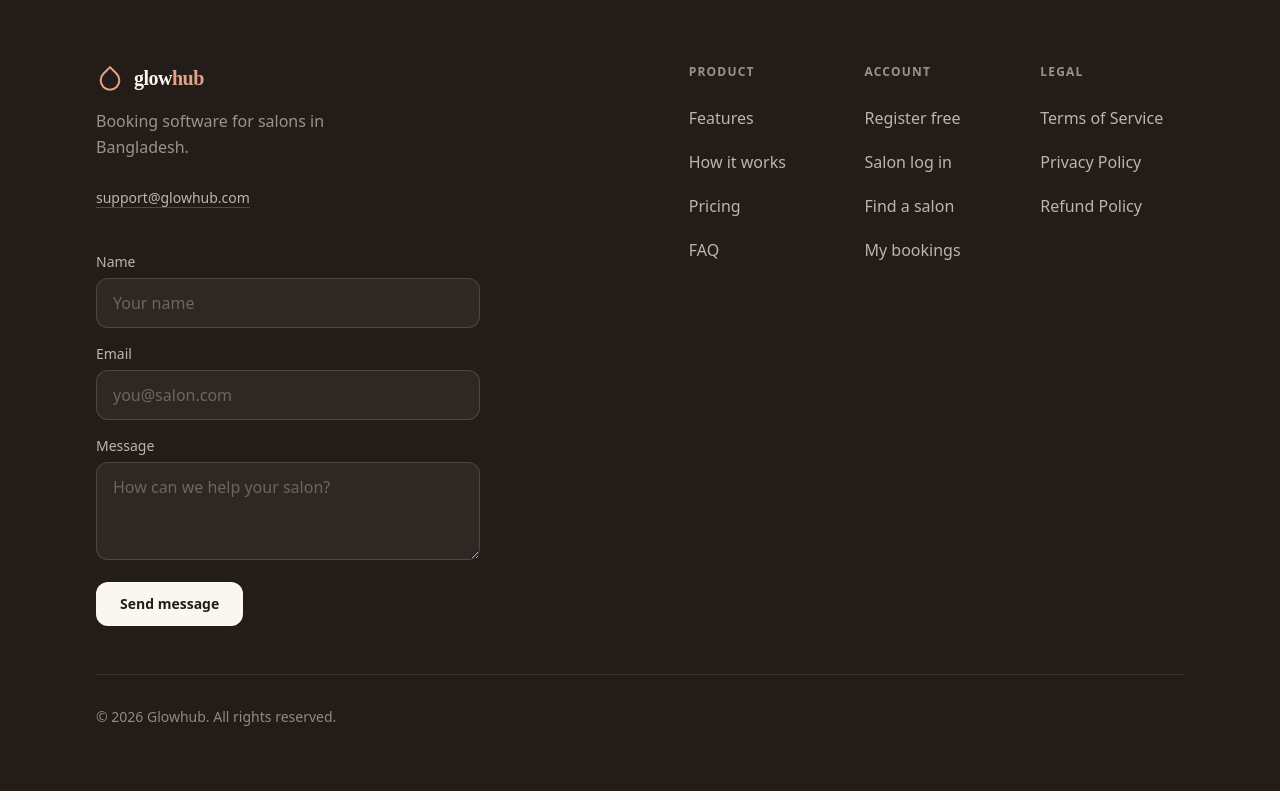
Test: MarketingFooter › shows the field errors the server returns
Type "Rupali" into the field with id "footer-contact-name" at (288, 303), box [96, 278, 480, 328]
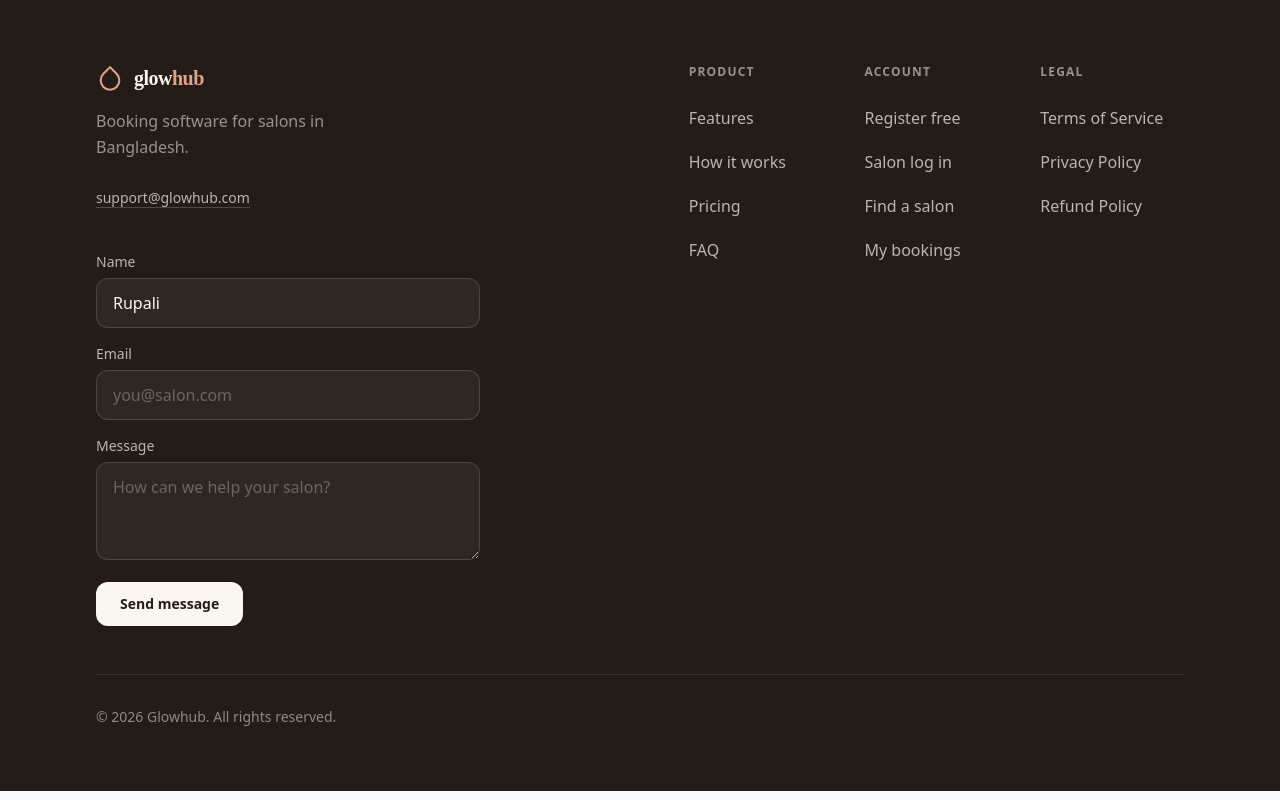
Type "rupali@salon.test" into the field with id "footer-contact-email" at (288, 395), box [96, 370, 480, 420]
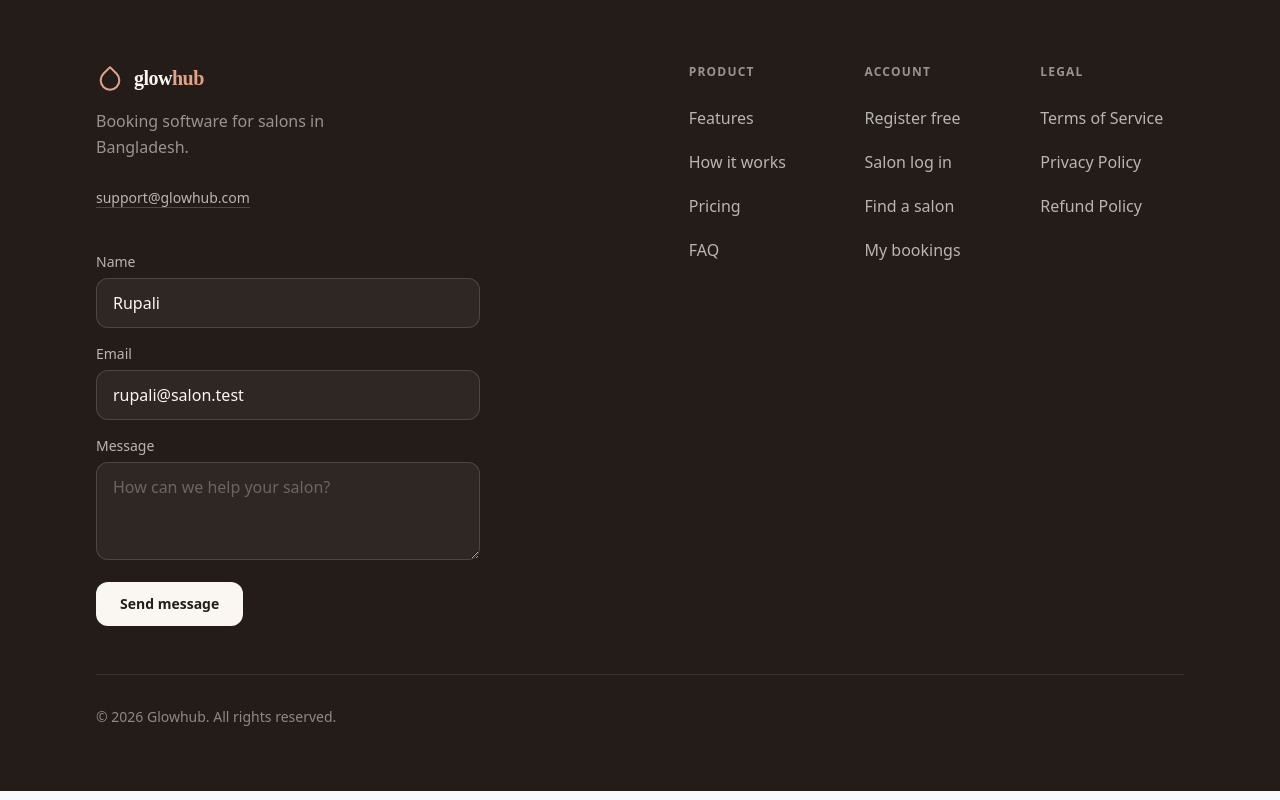
Type "Do you support two branches?" into the text box with id "footer-contact-message" at (288, 511), box [96, 462, 480, 560]
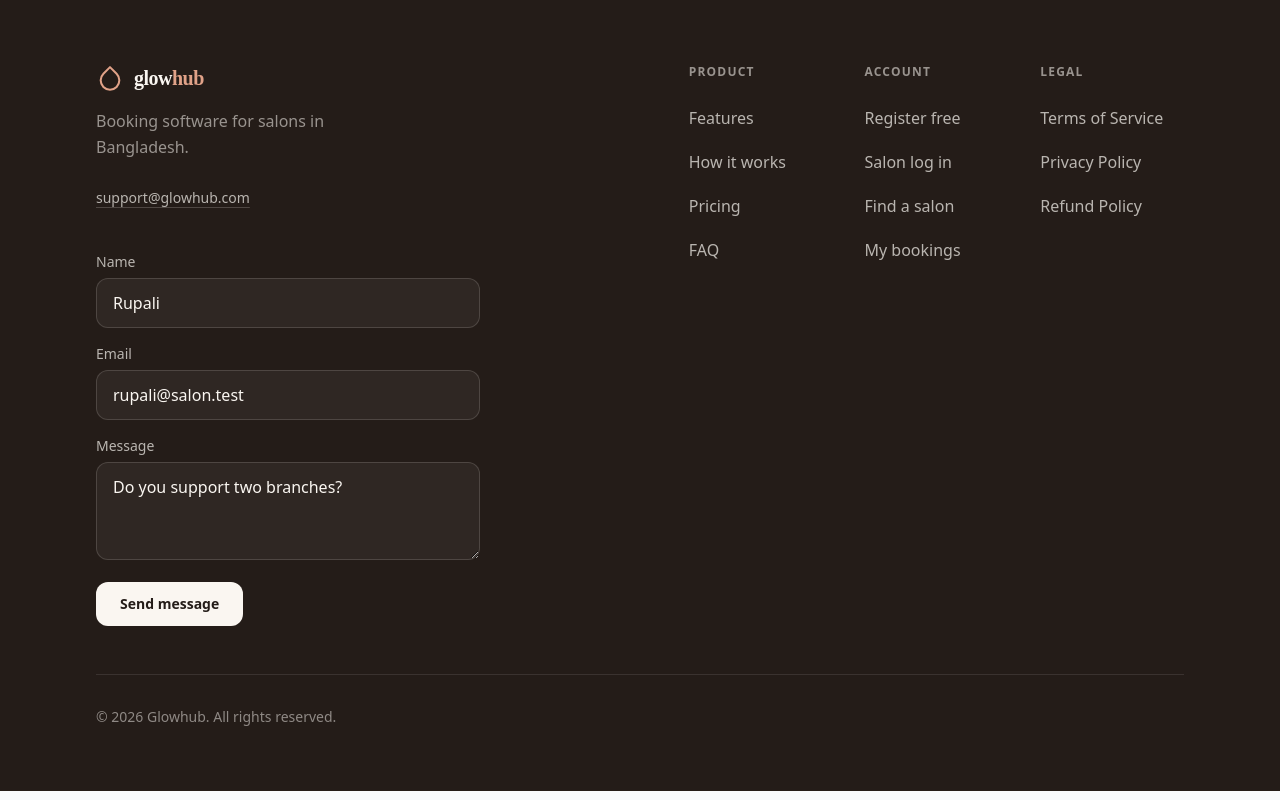
Submit the form, box [96, 252, 480, 626]
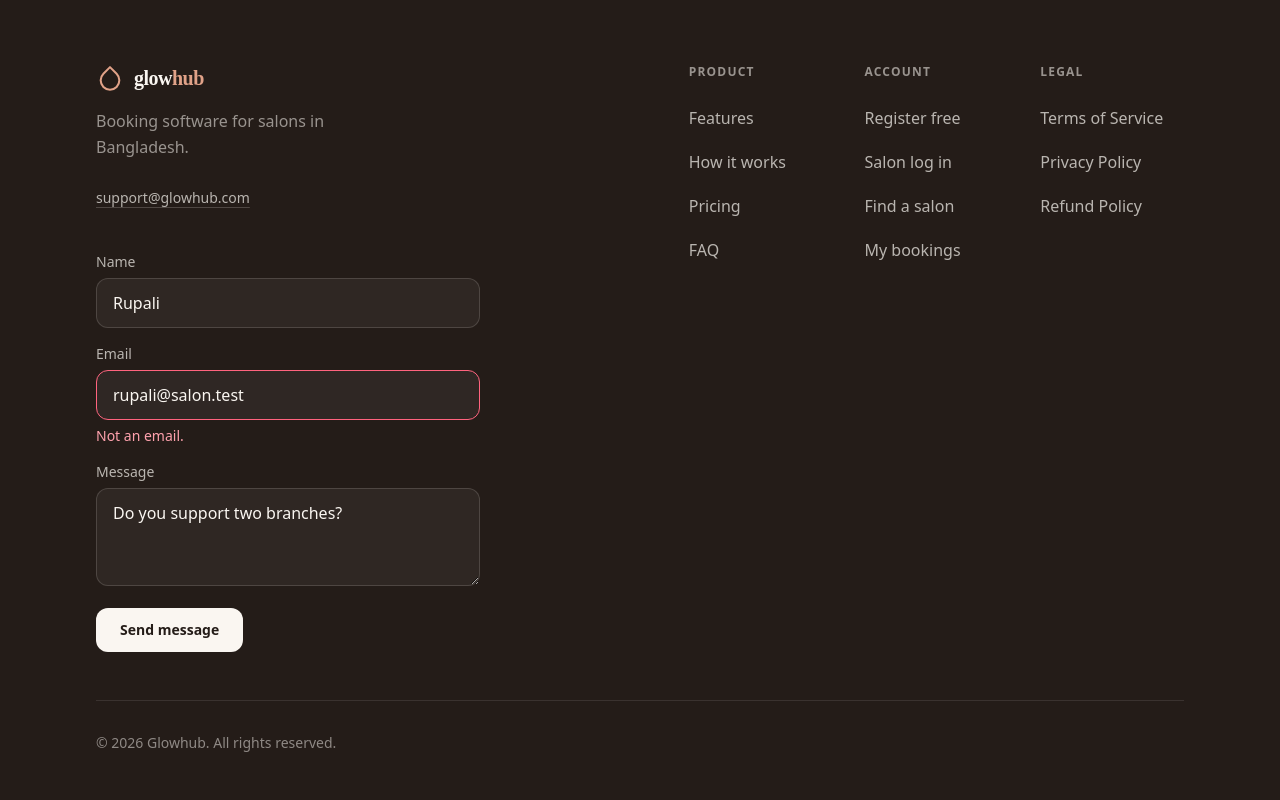
expect the text "Not an email." is shown: met, box [96, 426, 184, 445]
